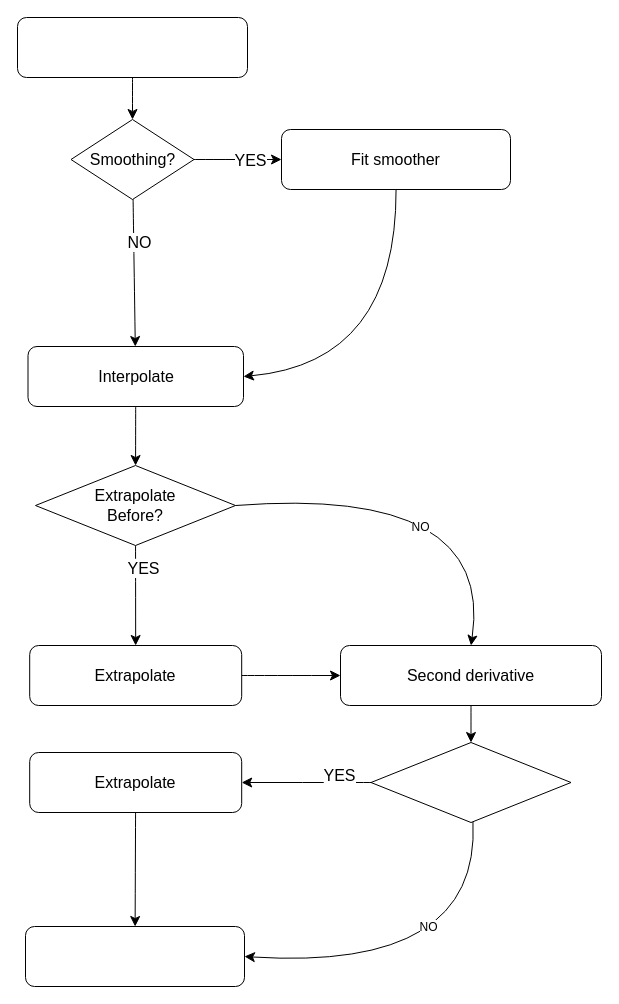
Image size: 619x1004. Some labels were removed from this diagram. Here are the shapes that lost their labels. From the top down, the centre of each, then its label:
At (x=132, y=47): "Get (x,y) data ready".
At (x=470, y=782): "Extrapolate after?".
At (x=134, y=956): "Rescale".
